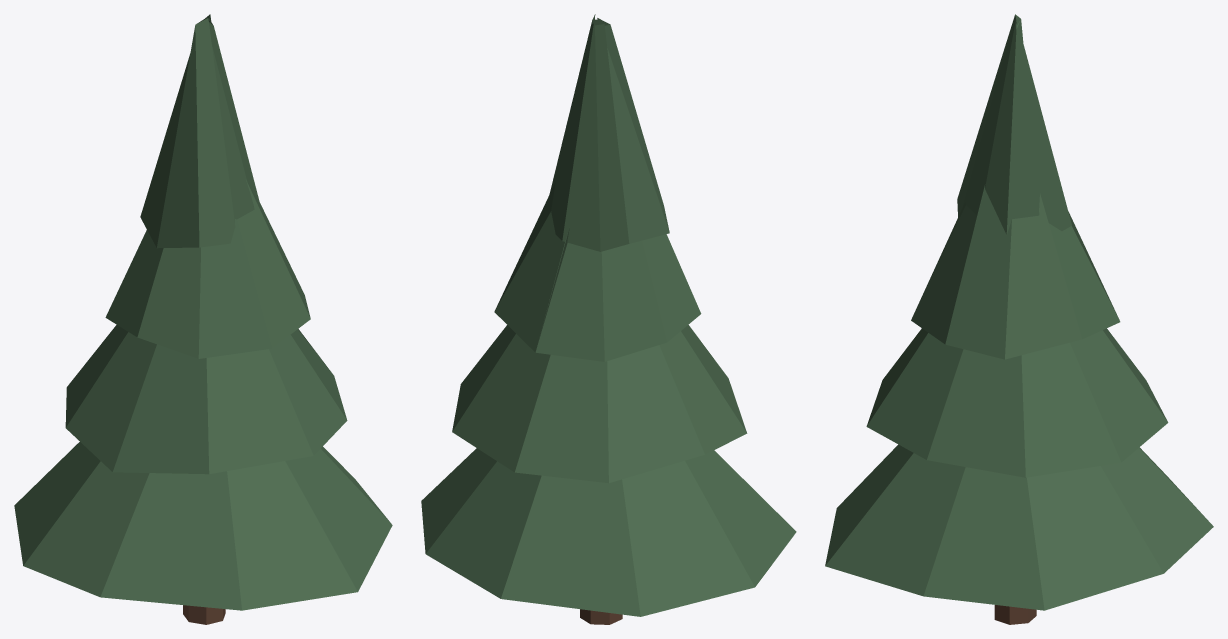
Rendered from tree_pine.glb.
3 renders of one model, left to right at view 1: azimuth 30°, elevation 25°; view 2: azimuth 150°, elevation 25°; view 3: azimuth 270°, elevation 25°, orthographic.
Visible parts, largest first — view 1: Cone, Cone.001, Cone.002, Cone.003, Cylinder; view 2: Cone, Cone.001, Cone.002, Cone.003; view 3: Cone, Cone.001, Cone.002, Cone.003, Cylinder.
Part boxes in pixels (x1,y1,x2,y2): Cone: (14, 442, 392, 610); Cone.001: (65, 325, 347, 474); Cone.002: (105, 180, 310, 358); Cone.003: (140, 14, 259, 248); Cylinder: (183, 605, 225, 624); Cone: (421, 448, 796, 616); Cone.001: (452, 325, 747, 483); Cone.002: (494, 181, 701, 361); Cone.003: (549, 14, 669, 251); Cone: (825, 444, 1213, 610); Cone.001: (866, 328, 1168, 477); Cone.002: (911, 185, 1120, 359); Cone.003: (957, 14, 1071, 234); Cylinder: (994, 605, 1036, 624).
Size of the model in its own units: 1.23 by 2.11 by 1.23.
